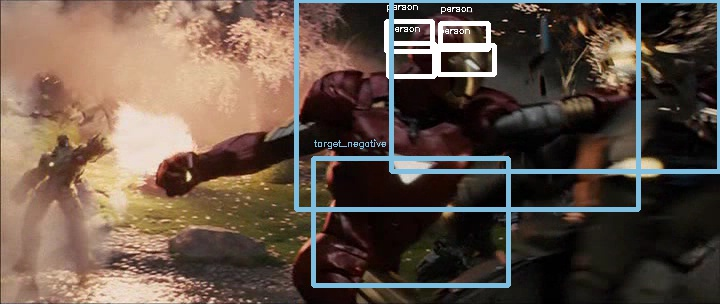person: (407, 18, 483, 98), (406, 18, 482, 98), (408, 18, 484, 98), (407, 17, 483, 97), (407, 19, 483, 99)
target_negative: (310, 108, 690, 221), (5, 52, 96, 297), (323, 22, 391, 153), (618, 231, 660, 250), (77, 294, 370, 295), (578, 102, 682, 104)
